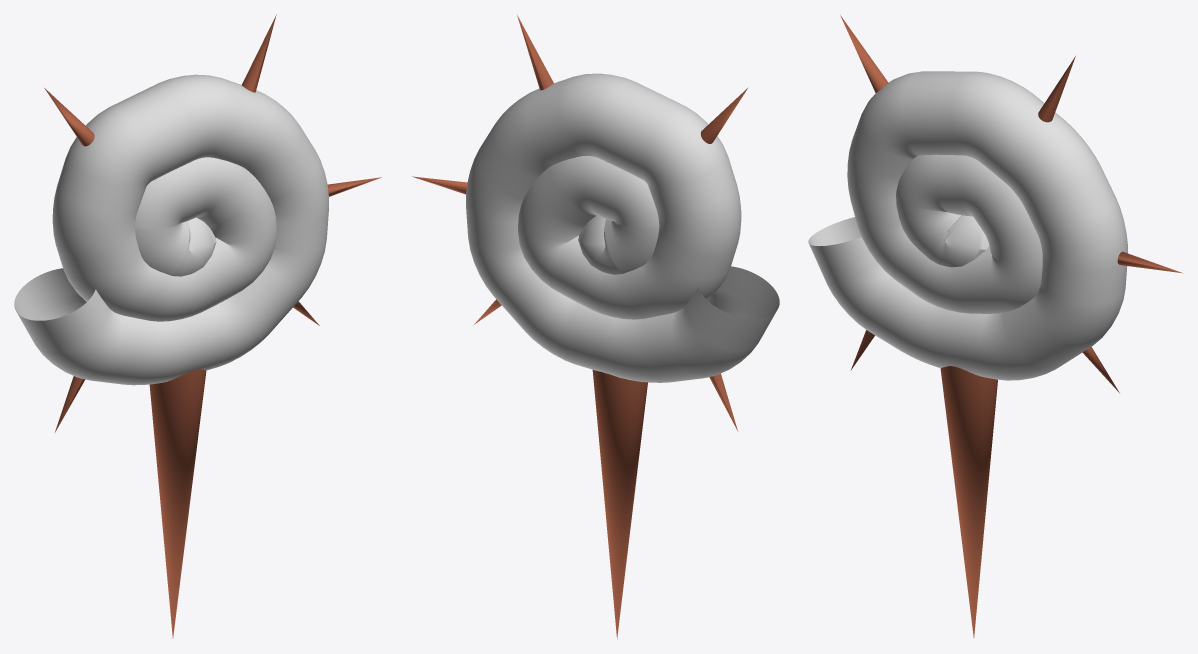
File: Caracol-Shell Beach.fbx
3 renders of one model, left to right at view 1: azimuth 30°, elevation 25°; view 2: azimuth 150°, elevation 25°; view 3: azimuth 330°, elevation 25°, orthographic.
Visible parts, largest first — view 1: Plane, Cone, Cone.004; view 2: Plane, Cone, Cone.004; view 3: Plane, Cone, Cone.004.
Boxes of the visible parts, x1,y1,x2,y2 form: Plane: (14, 74, 328, 385); Cone: (149, 369, 206, 638); Cone.004: (44, 14, 381, 432); Plane: (466, 73, 779, 382); Cone: (592, 370, 647, 639); Cone.004: (412, 15, 748, 430); Plane: (808, 71, 1127, 380); Cone: (940, 366, 997, 638); Cone.004: (840, 15, 1182, 393).
Bounding box in the file's own units: 30.31 × 48.01 × 6.2.
